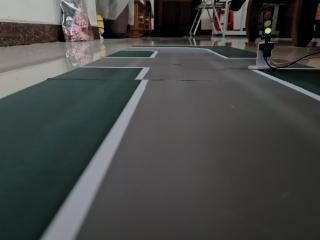green: (259, 8, 277, 53)
